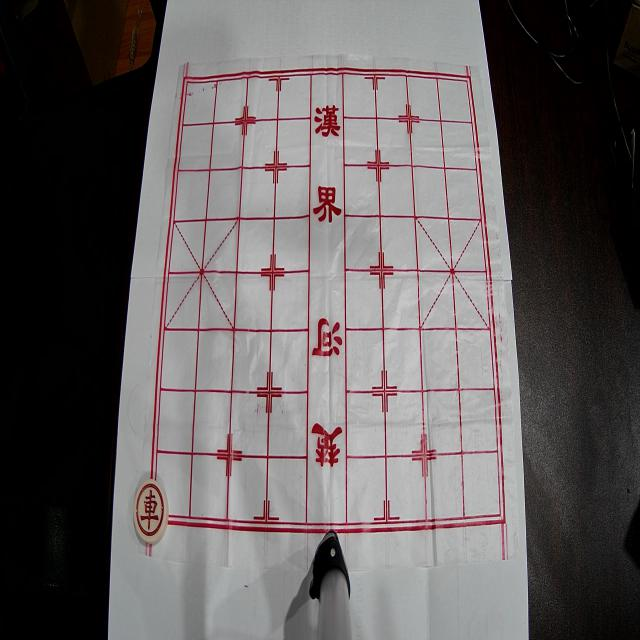red-chariot: (134, 480, 168, 544)
